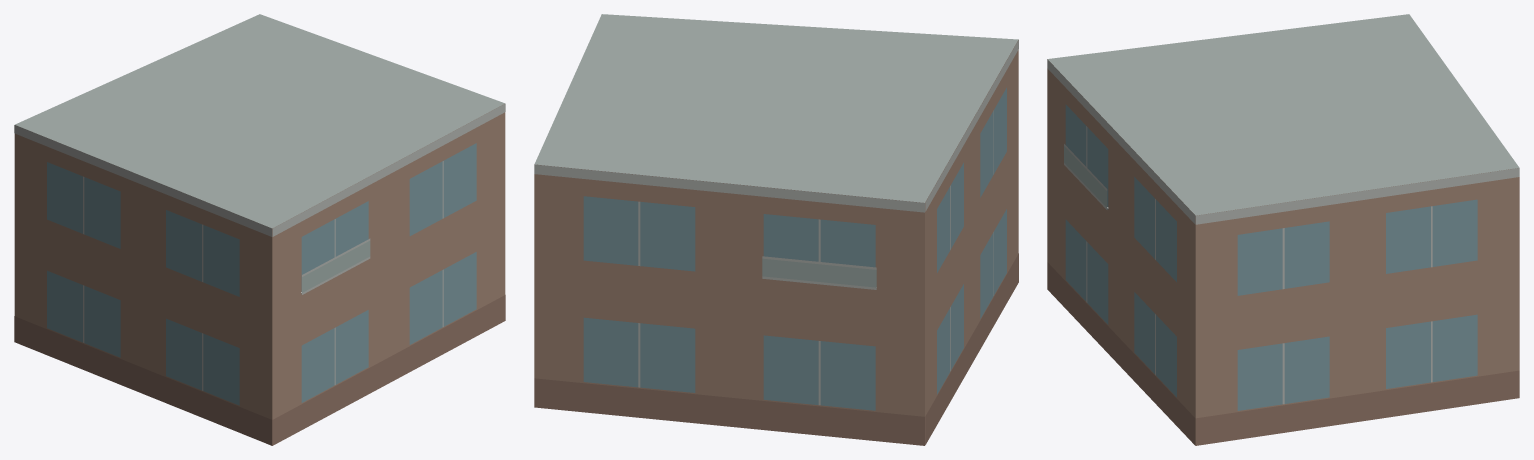
Rendered from survey-upis-32498807.glb.
3 renders of one model, left to right at view 1: azimuth 30°, elevation 25°; view 2: azimuth 150°, elevation 25°; view 3: azimuth 270°, elevation 25°, orthographic. The views are drawn at different scales.
Visible parts, largest first — view 1: survey-upis-32498807.tmp; view 2: survey-upis-32498807.tmp; view 3: survey-upis-32498807.tmp.
Part boxes in pixels (box(x1,y1,x2,y2)): survey-upis-32498807.tmp: box(14, 14, 505, 445); survey-upis-32498807.tmp: box(534, 14, 1018, 445); survey-upis-32498807.tmp: box(1047, 14, 1519, 445).
Bounding box in the file's own units: 11.46 × 6.1 × 11.35.
